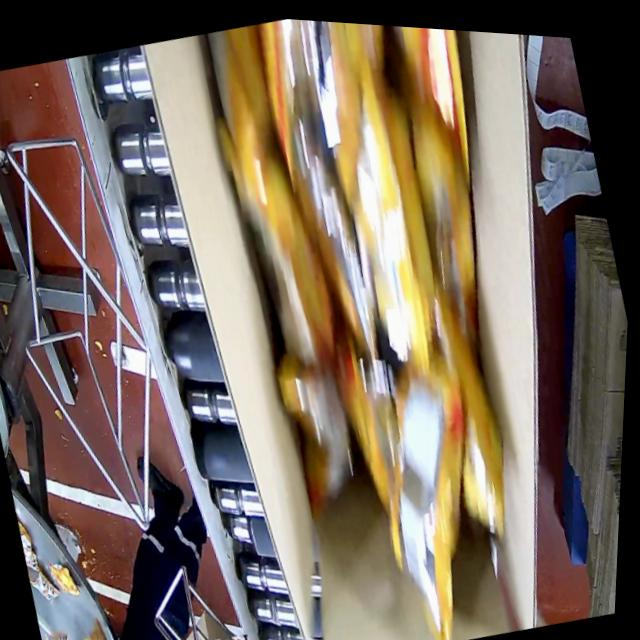FRENCH_CHEESE: (158, 12, 619, 640)
